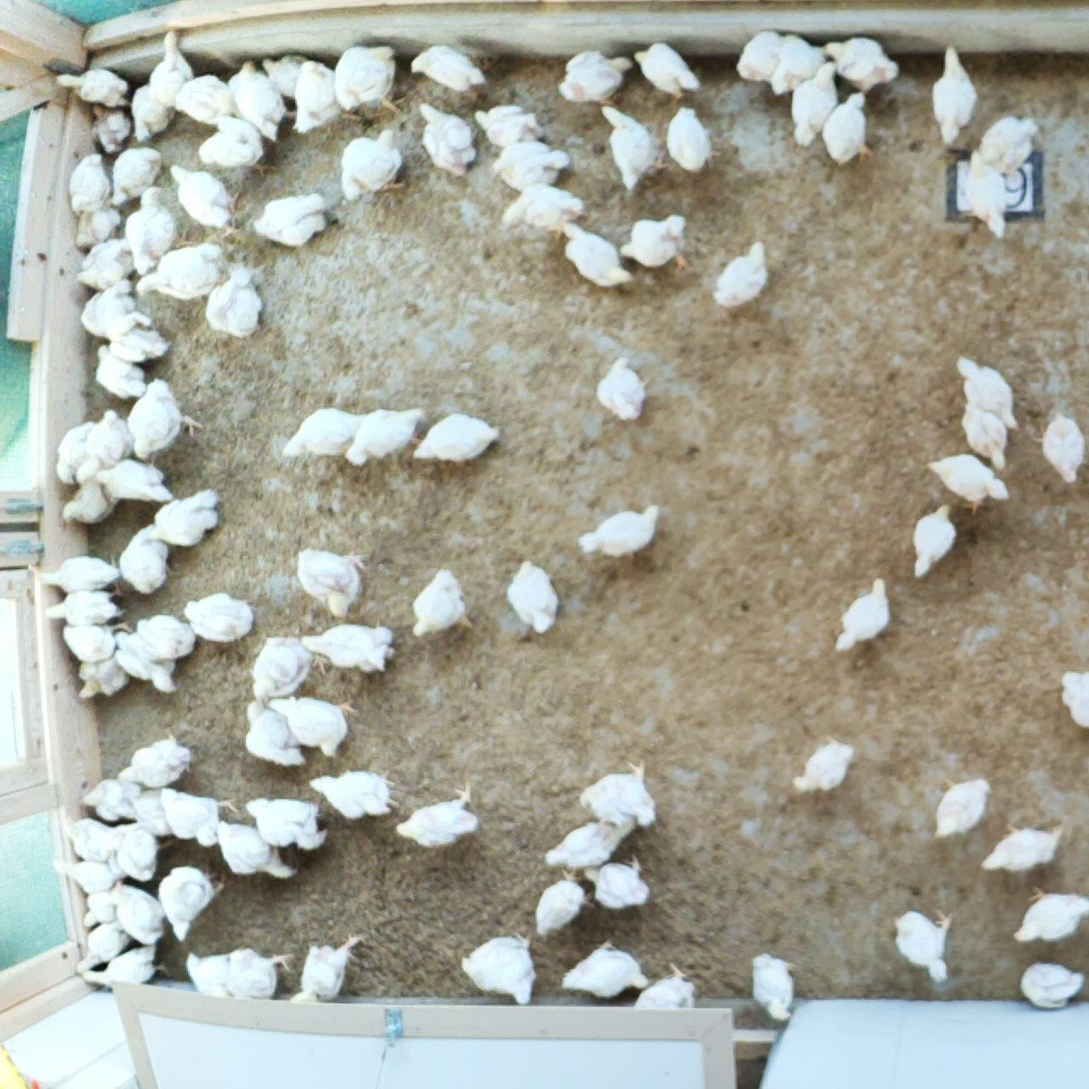chicken: (113, 374, 203, 461), (265, 686, 362, 763), (391, 778, 485, 856), (575, 752, 664, 833), (133, 238, 232, 307), (163, 159, 247, 240), (539, 809, 640, 876), (951, 348, 1027, 437), (456, 926, 540, 1006), (221, 54, 297, 142), (294, 542, 375, 623), (917, 450, 1014, 517), (208, 815, 297, 888), (248, 629, 328, 710), (287, 55, 366, 137), (330, 40, 407, 124), (558, 936, 653, 1002), (573, 498, 667, 564), (155, 859, 226, 946), (555, 217, 633, 296), (344, 402, 434, 470), (337, 126, 413, 206), (928, 37, 983, 147), (121, 181, 180, 283), (409, 557, 478, 644), (827, 572, 895, 660), (889, 900, 959, 985), (304, 762, 402, 822), (410, 408, 507, 468), (194, 111, 278, 180), (300, 617, 398, 676), (279, 402, 369, 466), (413, 98, 481, 182), (551, 46, 635, 113), (596, 103, 661, 188), (202, 261, 271, 341), (822, 29, 902, 98), (499, 179, 589, 240), (246, 790, 333, 853), (979, 817, 1073, 875), (905, 497, 965, 587), (1006, 879, 1089, 944), (73, 277, 154, 343), (957, 148, 1012, 245), (159, 784, 241, 849), (591, 351, 655, 434), (146, 483, 225, 550), (787, 54, 841, 152), (529, 862, 599, 937), (615, 210, 694, 276), (708, 236, 775, 313), (300, 929, 372, 999), (789, 727, 863, 795), (116, 727, 196, 789), (241, 696, 308, 770), (928, 771, 993, 847), (505, 555, 563, 640), (254, 187, 331, 251), (181, 587, 262, 647), (145, 24, 200, 112), (581, 851, 653, 918), (818, 87, 874, 172), (227, 936, 298, 1003), (406, 40, 489, 97), (630, 38, 705, 100), (954, 397, 1014, 474), (487, 137, 572, 191), (74, 771, 150, 831), (94, 456, 179, 509), (94, 307, 171, 365), (771, 30, 832, 103), (110, 630, 179, 694), (84, 943, 174, 992), (120, 519, 177, 596), (107, 879, 170, 947), (747, 946, 801, 1024), (666, 101, 719, 180), (1038, 408, 1089, 489), (50, 63, 135, 111), (70, 233, 139, 292), (1017, 954, 1087, 1012), (72, 915, 134, 979), (467, 101, 549, 149), (736, 22, 796, 87), (977, 112, 1043, 171), (172, 70, 239, 128), (59, 469, 121, 531), (57, 617, 135, 666), (124, 80, 183, 144), (109, 144, 166, 209), (132, 608, 200, 662), (92, 340, 151, 402), (43, 585, 128, 628), (61, 814, 128, 868), (35, 551, 118, 594), (61, 150, 111, 219), (642, 956, 703, 1011), (69, 193, 124, 252), (86, 406, 134, 472), (84, 97, 136, 157), (113, 824, 164, 884), (51, 855, 128, 894), (257, 50, 311, 105), (124, 786, 176, 842), (185, 949, 241, 1001), (47, 415, 91, 480), (71, 656, 133, 702), (1052, 664, 1089, 731), (76, 887, 121, 927)
